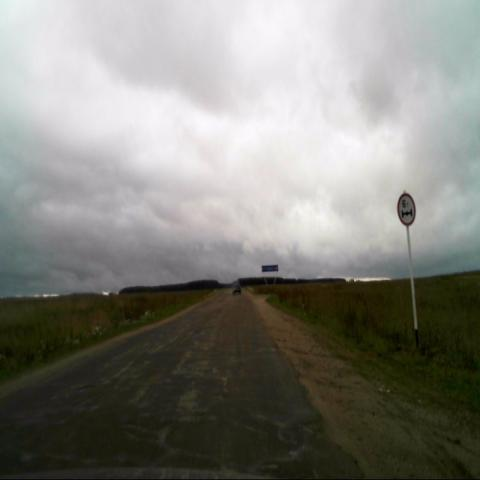3_12: (396, 191, 417, 227)
